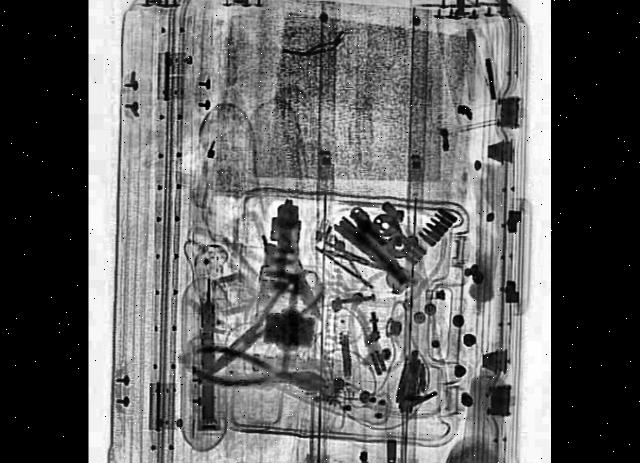Pliers: (197, 258, 326, 397), (194, 342, 327, 401)
